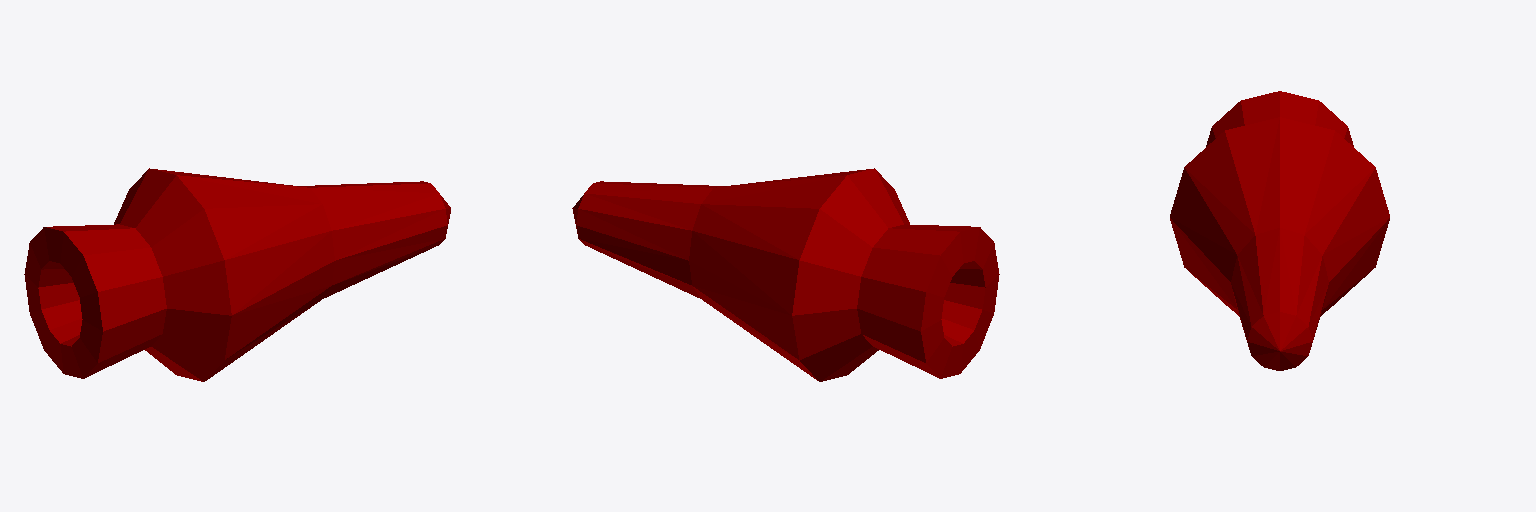
File: Rocket.obj
3 views of the same model, side by side, from view 1: azimuth 30°, elevation 25°; view 2: azimuth 150°, elevation 25°; view 3: azimuth 270°, elevation 25° (orthographic).
Visible parts, largest first — view 1: Handle1; view 2: Handle1; view 3: Handle1.
Boxes of the visible parts, x1=… form: Handle1: x1=24, y1=168, x2=450, y2=381; Handle1: x1=572, y1=168, x2=999, y2=381; Handle1: x1=1170, y1=91, x2=1389, y2=370.
Size of the model in its own units: 1.27 by 0.6227 by 0.6227.